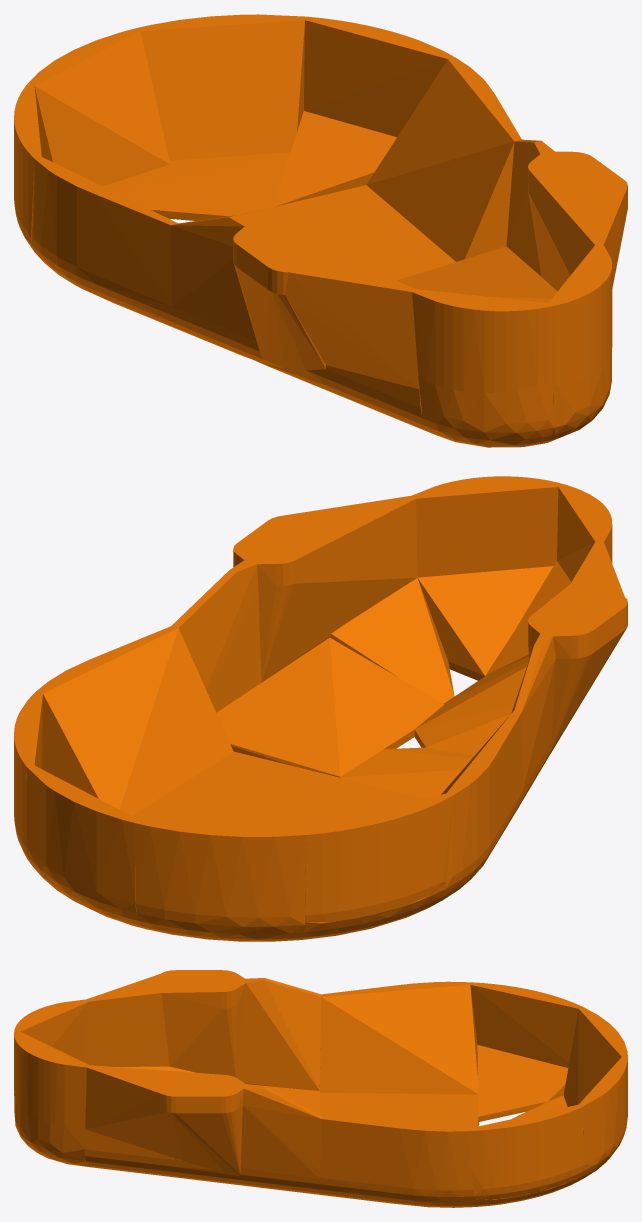
Rendered from LARM_LINK6.dae.
3 views of the same model, one above another, from view 1: azimuth 30°, elevation 25°; view 2: azimuth 150°, elevation 25°; view 3: azimuth 270°, elevation 25° (orthographic). The views are drawn at different scales.
Visible parts, largest first — view 1: LARM_LINK6; view 2: LARM_LINK6; view 3: LARM_LINK6.
Boxes of the visible parts, x1,y1,x2,y2 form: LARM_LINK6: [14, 14, 627, 447]; LARM_LINK6: [14, 476, 627, 941]; LARM_LINK6: [14, 970, 627, 1207].
Size of the model in its own units: 0.058 by 0.0198 by 0.1004.
